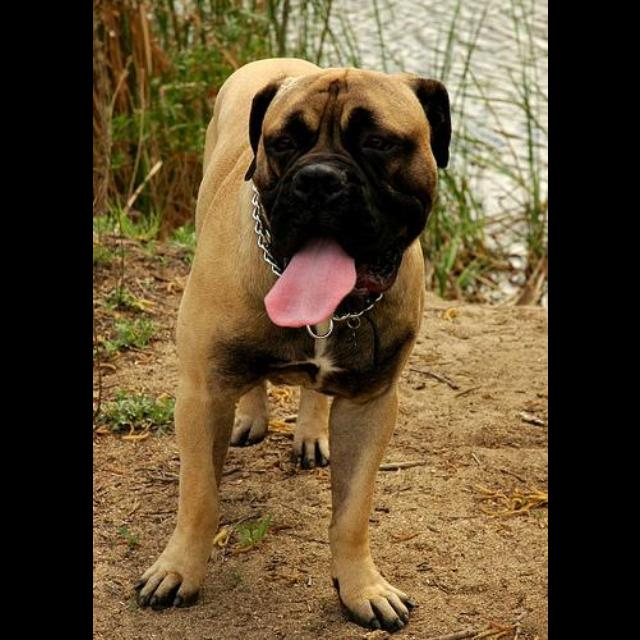bullmastiff: (132, 57, 453, 634)
